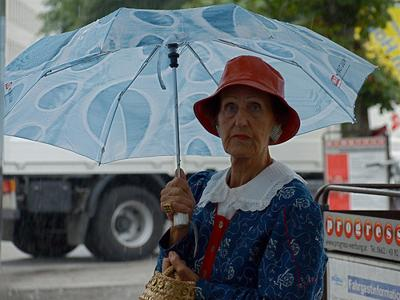person: (154, 56, 329, 300)
